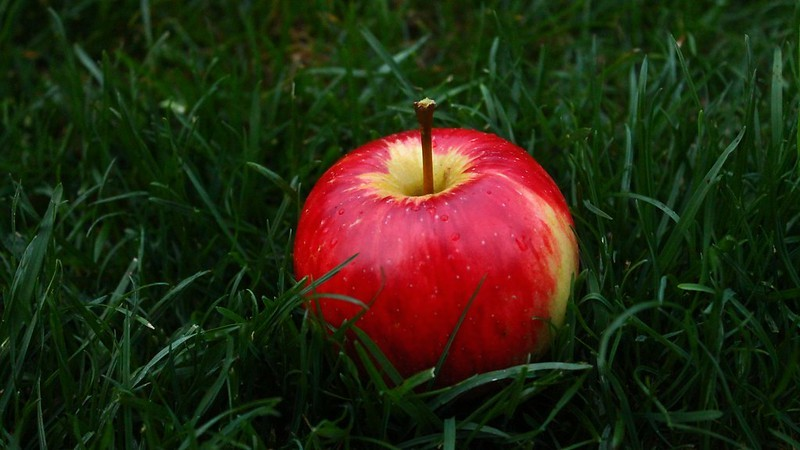apple: (292, 112, 595, 383)
